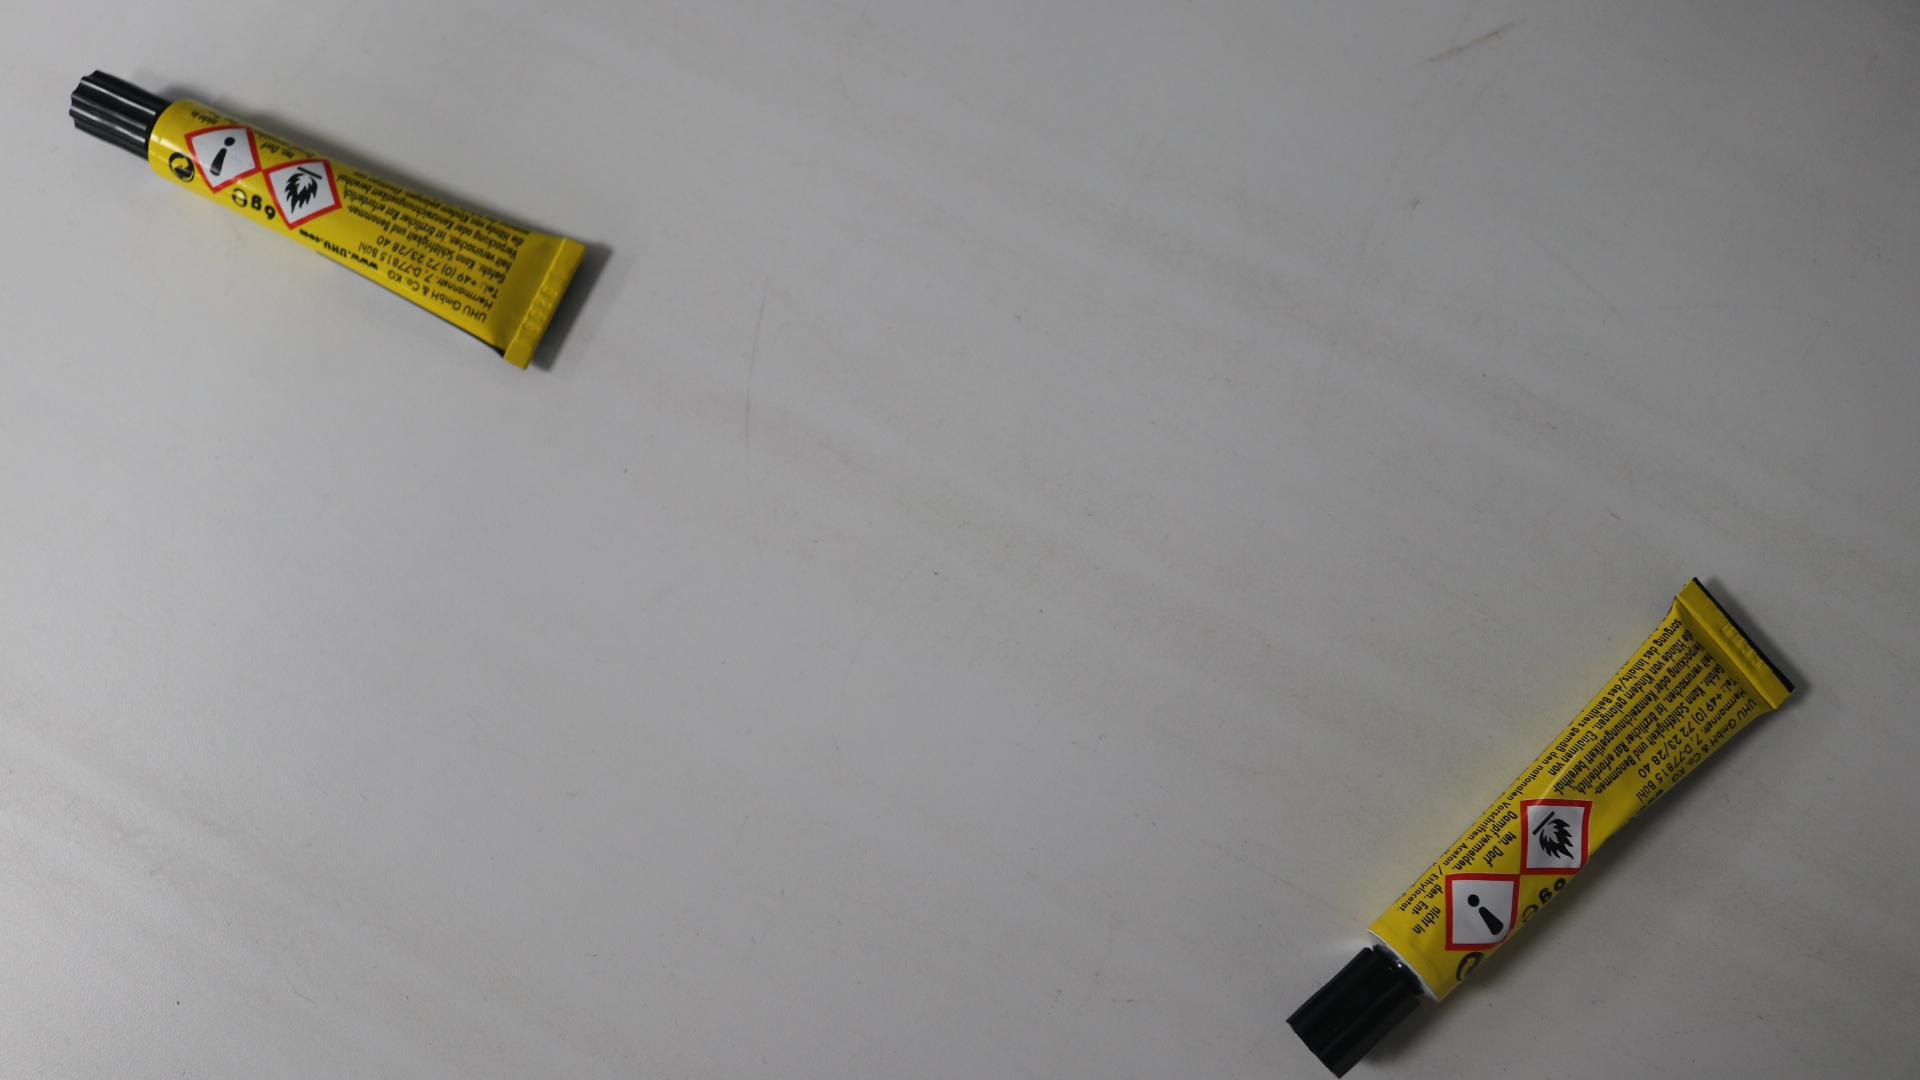Head: (1351, 1002, 1367, 1020), (110, 107, 123, 119)
Tail: (1727, 635, 1749, 658), (534, 302, 549, 317)
Tube: (1288, 577, 1798, 1080), (68, 69, 588, 373)
